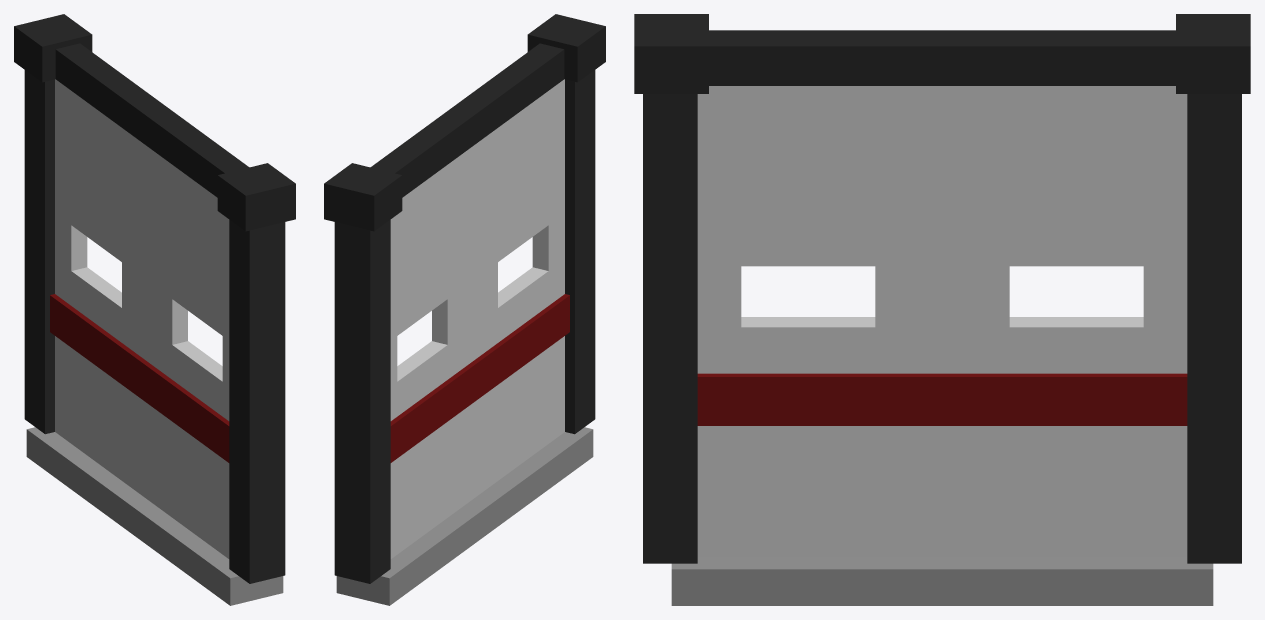
Rendered from fd_door.FBX.
The picture shows the model from 3 angles, left to right: view 1: azimuth 30°, elevation 25°; view 2: azimuth 150°, elevation 25°; view 3: azimuth 270°, elevation 25°; orthographic projection. The views are drawn at different scales.
Parts seen in each view (by area): view 1: Box006, Box004, Box007, Box005; view 2: Box006, Box004, Box007, Box005; view 3: Box006, Box004, Box007, Box005.
Part boxes in pixels (<box>): Box006: <box>50,79,229,558</box>; Box004: <box>24,70,285,583</box>; Box007: <box>14,14,295,231</box>; Box005: <box>26,427,283,605</box>; Box006: <box>390,79,569,558</box>; Box004: <box>334,70,595,583</box>; Box007: <box>324,14,605,231</box>; Box005: <box>336,427,593,605</box>; Box006: <box>697,86,1187,557</box>; Box004: <box>643,94,1241,563</box>; Box007: <box>634,14,1250,93</box>; Box005: <box>671,557,1213,605</box>.
Size of the model in its own units: 30 by 228 by 228.
